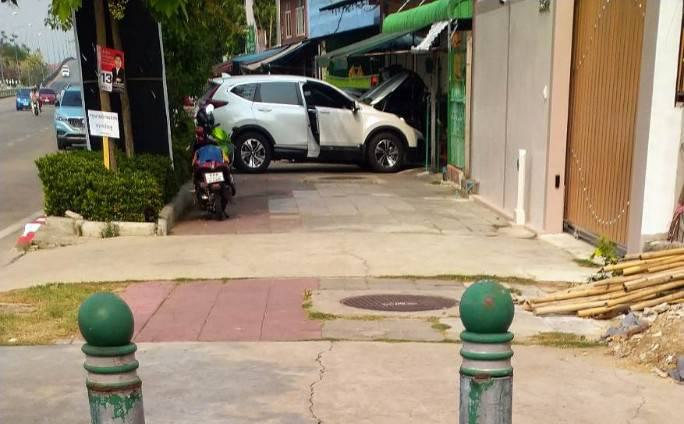Banner: (98, 46, 127, 94)
